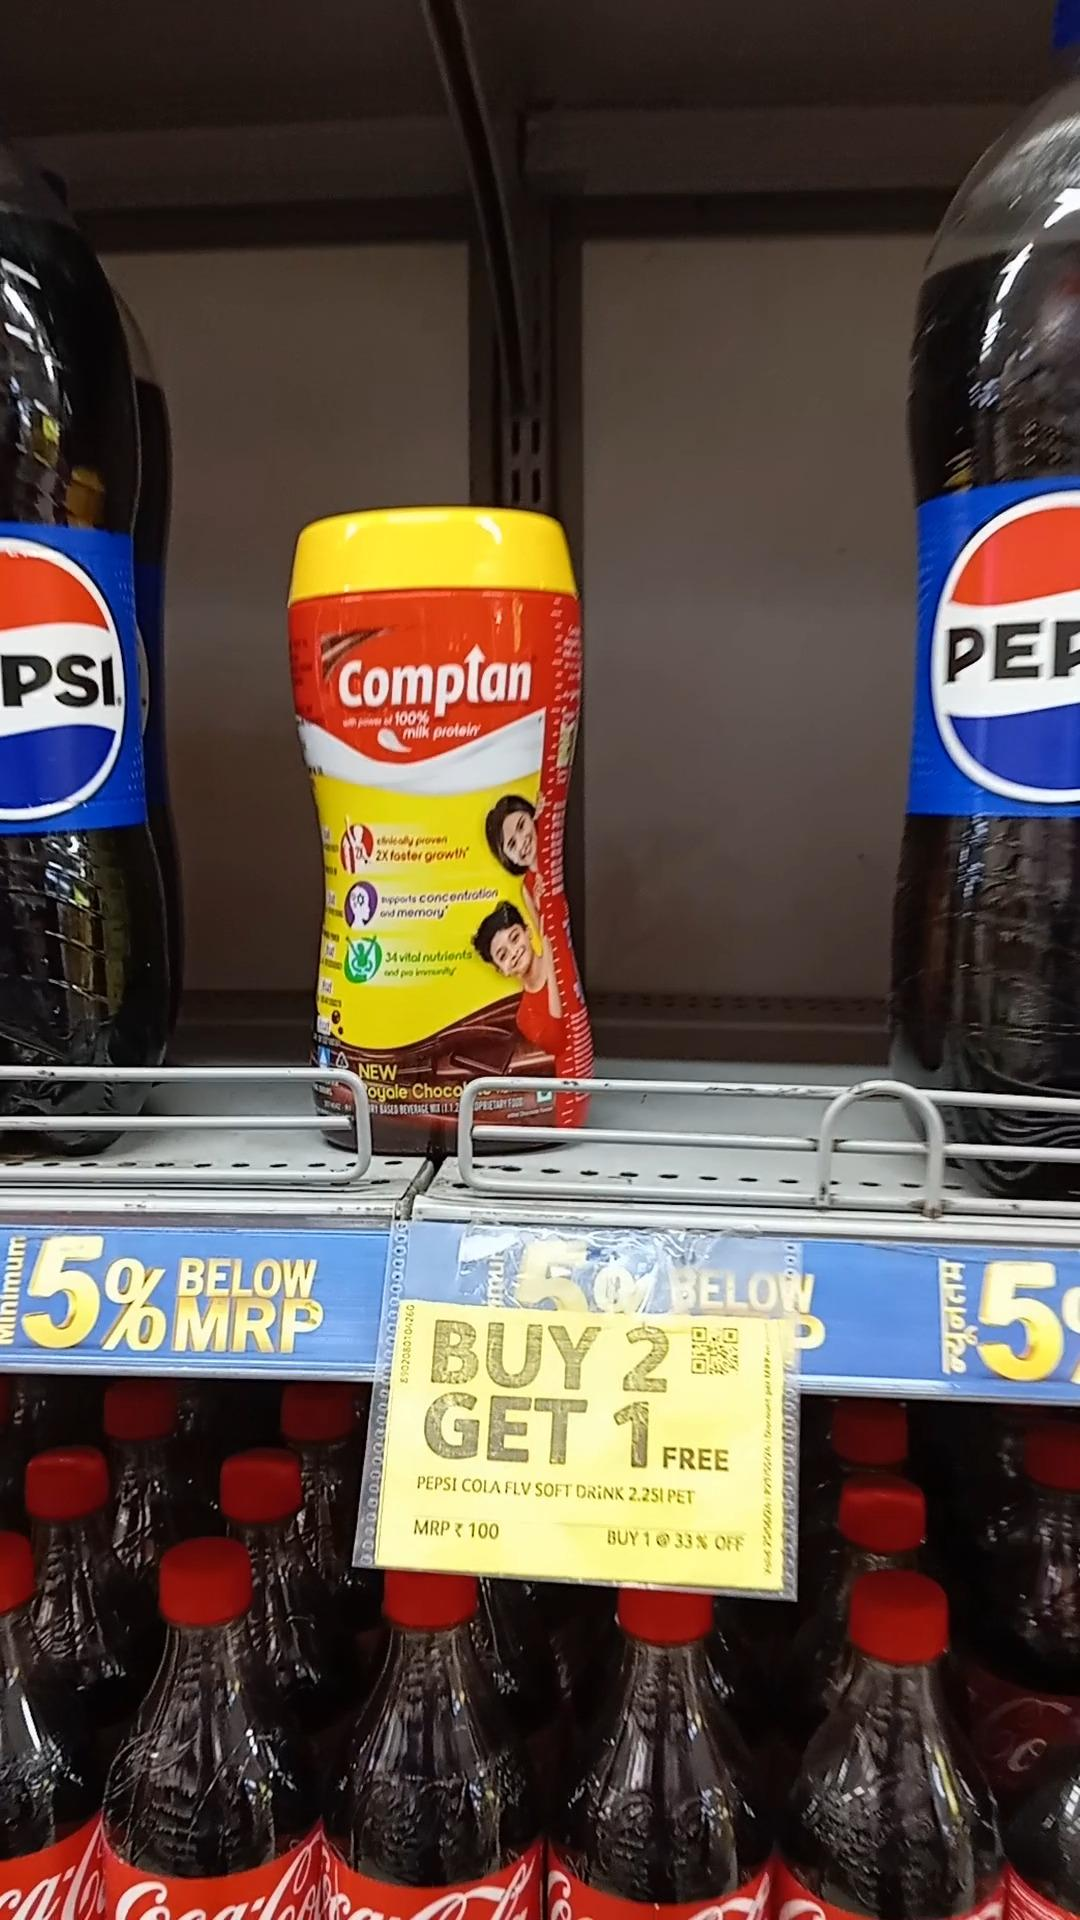COMPLAN_CHOCOLATE_500_GMS_JAR: (289, 506, 596, 1151)
